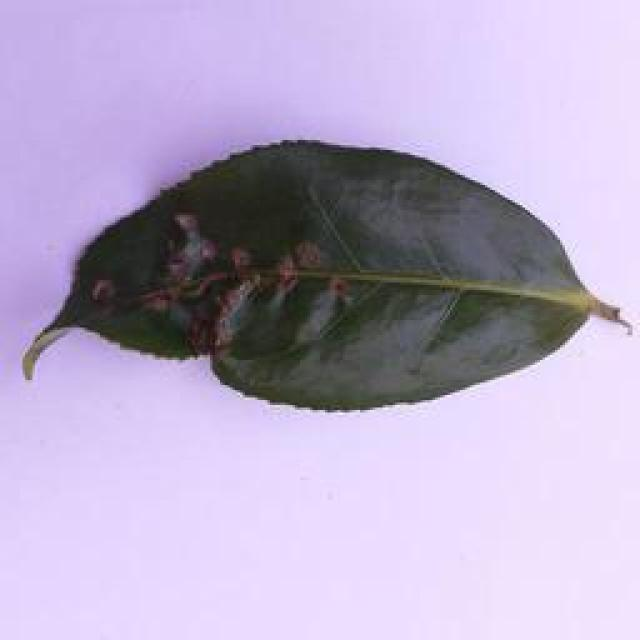Helopeltis: (19, 130, 626, 432)
